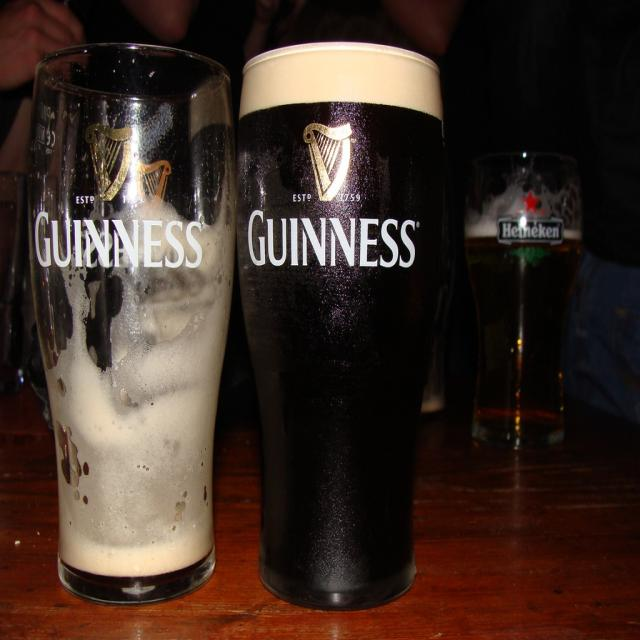guiness: (32, 121, 208, 273), (244, 119, 420, 270)
